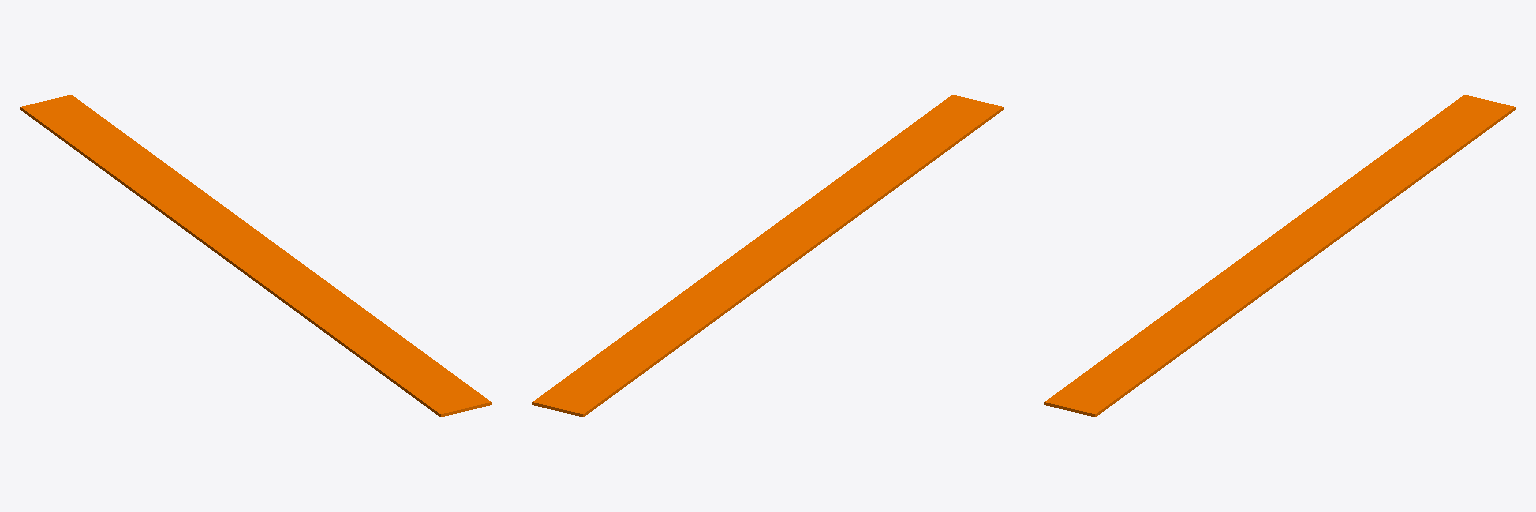
URDF robot description (ypaddle2D):
<robot name="ypaddle2D">
    
  <link name="base_link">
    <inertial>
      <origin rpy="0 0 0" xyz="0 0 0"/>
       <mass value="0"/>
       <inertia ixx="0" ixy="0" ixz="0" iyy="0" iyz="0" izz="0"/>
    </inertial>
  </link>

  <link name="x_link">
    <inertial>
      <origin rpy="0 0 0" xyz="0 0 0"/>
       <mass value="0.0001"/>
       <inertia ixx="0.0001" ixy="0" ixz="0" iyy="0.0001" iyz="0" izz="0.0001"/>
    </inertial>
  </link>


  <link name="y_link">
    <inertial>
      <origin rpy="0 0 0" xyz="0 0 0"/>
       <mass value="0.0001"/>
       <inertia ixx="0.0001" ixy="0" ixz="0" iyy="0.0001" iyz="0" izz="0.0001"/>
    </inertial>
  </link>


  <link name="theta_link">
    <inertial>
      <origin rpy="0 0 0" xyz="0 0 0"/>
       <mass value="1.0"/>
       <inertia ixx="0.0001" ixy="0" ixz="0" iyy="0.0001" iyz="0" izz="0.0001"/>
    </inertial>

    <visual>
      <origin rpy="0 0 0" xyz="0 0 0"/>
      <geometry>
        <box size="3.5 50 0.2" />      
      </geometry>
      <material name="white">
        <color rgba="1 0.5 0 1"/>
      </material>
    </visual>
    
    <collision>
      <origin rpy="0 0 0" xyz="0 0 0"/>
      <geometry>
        <box size="3.5 50 0.2" />
      </geometry>
    </collision>
  </link>

  <joint name = "x_prismatic" type = "prismatic">
    <origin xyz = "0.0 0.0 0.0" rpy = "0 0 0"/> 
    <parent link = "base_link"/>
    <child link= "x_link"/>
    <axis xyz = "1 0 0"/>
    <limit effort="1.0" lower="-10000" upper="10000" velocity="10000" />
    <dynamics damping = "0.0" friction="0.0" />
  </joint>

  <joint name = "y_prismatic" type = "prismatic">
    <origin xyz = "0.0 0.0 0.0" rpy = "0 0 0"/> 
    <parent link = "x_link" />
    <child link= "y_link"/>
    <axis xyz = "0 1 0" />
    <limit effort="1.0" lower="-10000" upper="10000" velocity="10000" />
    <dynamics damping = "0.0" friction="0.0" />
  </joint>

   <joint name = "theta_revolute" type = "revolute">
    <origin xyz = "0.0 0.0 0.0" rpy = "0 0 0"/> 
    <parent link = "y_link" />
    <child link= "theta_link"/>
    <axis xyz = "0 0 1" />
    <limit effort="1.0" lower="-10000" upper="10000" velocity="10000" />
    <dynamics damping = "0.0" friction="0.0" />
  </joint>

    
</robot>

--- What the picture shows (computed from the rendered views, not written in the file) ---
Views: 3 orthographic renders of the robot side by side, from view 1: azimuth 30°, elevation 25°; view 2: azimuth 150°, elevation 25°; view 3: azimuth 330°, elevation 25°.
Robot: ypaddle2D — 4 links, 3 joints (1 revolute, 2 prismatic); root link base_link; default pose: all joints at 0.
Links seen in each view (by area): view 1: theta_link; view 2: theta_link; view 3: theta_link.
Link boxes in pixels (x1,y1,x2,y2): theta_link: [20, 95, 491, 416]; theta_link: [532, 95, 1003, 416]; theta_link: [1044, 95, 1515, 416].
Size in the robot's own frame: 3.5 by 50 by 0.2 metres.
Geometry: primitives only (box / cylinder / sphere), no mesh files.